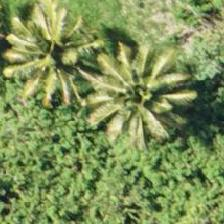coconut_tree: (108, 43, 198, 133), (22, 10, 112, 100), (91, 66, 181, 156), (0, 0, 90, 89)
